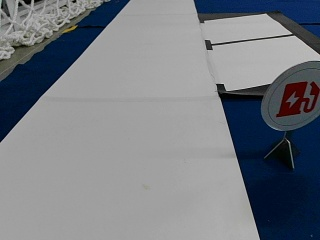battery: (262, 61, 319, 131)
